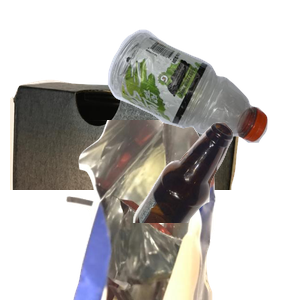cardboard: (10, 77, 245, 257)
glass: (130, 120, 300, 300)
plastic: (105, 27, 300, 162)
trash: (63, 120, 300, 300)
